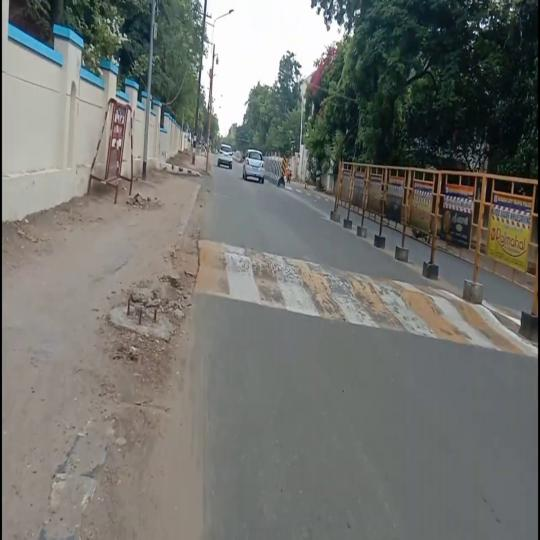Speed Bump: (192, 239, 374, 327), (374, 276, 462, 346), (463, 302, 520, 351)
